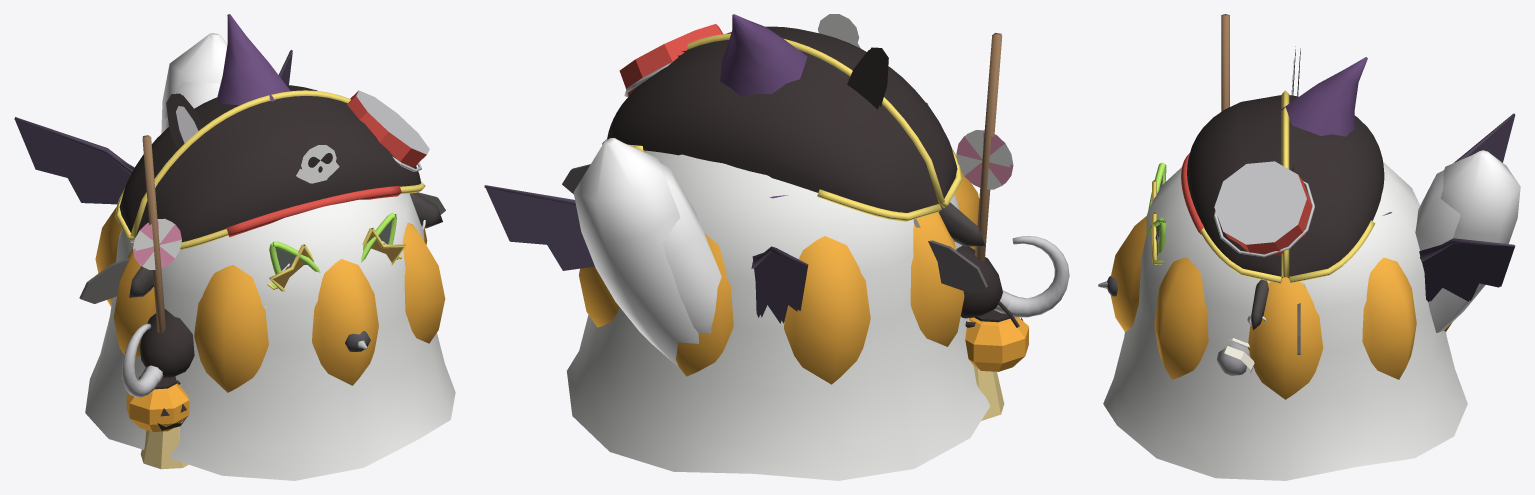
File: Visitors.fbx
3 views of the same model, side by side, from view 1: azimuth 30°, elevation 25°; view 2: azimuth 150°, elevation 25°; view 3: azimuth 270°, elevation 25° (orthographic). The views are drawn at different scales.
Visible parts, largest first — view 1: Ghost_Sheet, Costume_PirateHat, Pumpkin_Helmet, Costume_BatWings, Costume_Hook, Costume_WitchHat, Costume_Broom, Fake_PaintBucket, Costume_PumpkinBasket, Fake_RaccoonTail, Costume_Lollipop, Costume_AlienSunglasses (+5 smaller); view 2: Ghost_Sheet, Costume_PirateHat, Pumpkin_Helmet, Fake_RaccoonTail, Costume_BatWings, Koon_Tail, Costume_WitchHat, Costume_Hook, Costume_PumpkinBasket, Costume_Broom, Costume_Lollipop, Fake_GoatEars (+3 smaller); view 3: Ghost_Sheet, Costume_PirateHat, Pumpkin_Helmet, Fake_PaintBucket, Fake_RaccoonTail, Costume_BatWings, Costume_WitchHat, Koon_Tail, Costume_Broom, Body, Costume_AlienSunglasses, Oma_Ears.
Part boxes in pixels (left/top/right/bottom): Ghost_Sheet: left=85, top=193, right=455, bottom=480; Costume_PirateHat: left=115, top=85, right=425, bottom=250; Pumpkin_Helmet: left=95, top=207, right=445, bottom=392; Costume_BatWings: left=14, top=50, right=292, bottom=204; Costume_Hook: left=122, top=309, right=194, bottom=397; Costume_WitchHat: left=217, top=14, right=290, bottom=105; Costume_Broom: left=140, top=135, right=188, bottom=469; Fake_PaintBucket: left=347, top=90, right=429, bottom=171; Costume_PumpkinBasket: left=126, top=367, right=189, bottom=431; Fake_RaccoonTail: left=161, top=33, right=227, bottom=133; Costume_Lollipop: left=133, top=218, right=181, bottom=269; Costume_AlienSunglasses: left=269, top=212, right=398, bottom=289; Ghost_Sheet: left=567, top=150, right=990, bottom=480; Costume_PirateHat: left=602, top=14, right=962, bottom=221; Pumpkin_Helmet: left=579, top=172, right=979, bottom=384; Fake_RaccoonTail: left=573, top=140, right=698, bottom=366; Costume_BatWings: left=484, top=185, right=808, bottom=323; Koon_Tail: left=606, top=138, right=721, bottom=333; Costume_WitchHat: left=720, top=14, right=807, bottom=198; Costume_Hook: left=956, top=236, right=1069, bottom=318; Costume_PumpkinBasket: left=965, top=301, right=1028, bottom=371; Costume_Broom: left=965, top=33, right=1004, bottom=420; Costume_Lollipop: left=956, top=130, right=1013, bottom=189; Fake_GoatEars: left=562, top=164, right=987, bottom=293; Ghost_Sheet: left=1103, top=162, right=1467, bottom=480; Costume_PirateHat: left=1181, top=90, right=1384, bottom=283; Pumpkin_Helmet: left=1110, top=216, right=1451, bottom=399; Fake_PaintBucket: left=1214, top=161, right=1314, bottom=257; Fake_RaccoonTail: left=1428, top=151, right=1520, bottom=332; Costume_BatWings: left=1419, top=113, right=1515, bottom=301; Costume_WitchHat: left=1280, top=57, right=1391, bottom=215; Koon_Tail: left=1415, top=150, right=1485, bottom=250; Costume_Broom: left=1221, top=14, right=1229, bottom=111; Body: left=1217, top=341, right=1249, bottom=375; Costume_AlienSunglasses: left=1147, top=162, right=1166, bottom=261; Oma_Ears: left=1251, top=279, right=1268, bottom=329.
Size of the model in its own units: 1.22 by 1.12 by 1.2.
